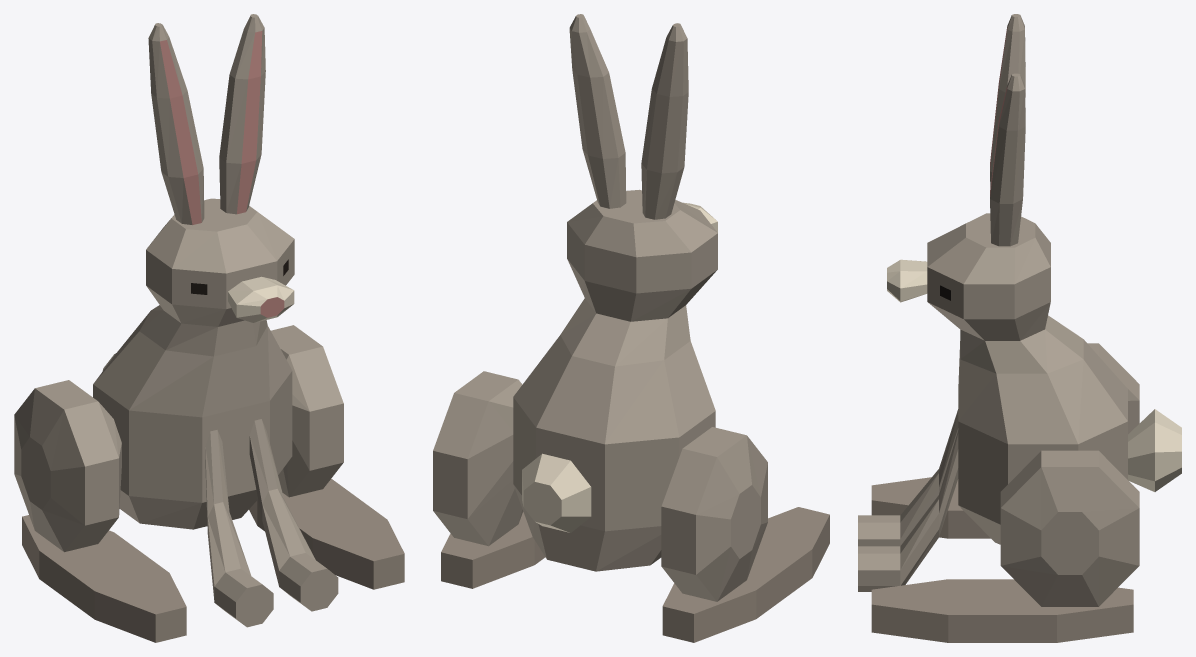
The picture shows the model from 3 angles, left to right: view 1: azimuth 30°, elevation 25°; view 2: azimuth 150°, elevation 25°; view 3: azimuth 270°, elevation 25°; orthographic projection. The views are drawn at different scales.
Parts seen in each view (by area): view 1: SeatedTaperedTorso, LeftBroadSeatedHaunch, CheekedHead_IntegralEyes, LeftLongForwardHindPaw, RightLongForwardHindPaw, RightBroadSeatedHaunch, LeftLongThickSplayedEar, RightLongThickSplayedEar, RightContinuousForelegAndPaw, LeftContinuousForelegAndPaw, ShortMuzzle_IntegralNose; view 2: SeatedTaperedTorso, LeftBroadSeatedHaunch, CheekedHead_IntegralEyes, RightBroadSeatedHaunch, LeftLongForwardHindPaw, LeftLongThickSplayedEar, RightLongThickSplayedEar, ShortFacetedTail, RightLongForwardHindPaw; view 3: SeatedTaperedTorso, RightBroadSeatedHaunch, RightLongForwardHindPaw, CheekedHead_IntegralEyes, RightLongThickSplayedEar, RightContinuousForelegAndPaw, ShortFacetedTail, LeftContinuousForelegAndPaw, LeftLongForwardHindPaw, LeftLongThickSplayedEar, ShortMuzzle_IntegralNose, LeftBroadSeatedHaunch.
Part boxes in pixels (x1,y1,x2,y2): SeatedTaperedTorso: [93, 305, 292, 529]; LeftBroadSeatedHaunch: [14, 380, 121, 552]; CheekedHead_IntegralEyes: [146, 198, 294, 326]; LeftLongForwardHindPaw: [22, 515, 186, 642]; RightLongForwardHindPaw: [249, 479, 404, 589]; RightBroadSeatedHaunch: [271, 325, 343, 497]; LeftLongThickSplayedEar: [148, 23, 204, 224]; RightLongThickSplayedEar: [219, 14, 265, 214]; RightContinuousForelegAndPaw: [249, 419, 338, 611]; LeftContinuousForelegAndPaw: [205, 430, 273, 627]; ShortMuzzle_IntegralNose: [228, 276, 294, 322]; SeatedTaperedTorso: [513, 298, 715, 571]; LeftBroadSeatedHaunch: [661, 427, 767, 601]; CheekedHead_IntegralEyes: [567, 189, 717, 321]; RightBroadSeatedHaunch: [433, 371, 523, 546]; LeftLongForwardHindPaw: [662, 507, 829, 642]; LeftLongThickSplayedEar: [641, 23, 688, 219]; RightLongThickSplayedEar: [569, 14, 626, 208]; ShortFacetedTail: [522, 453, 591, 532]; RightLongForwardHindPaw: [441, 512, 545, 588]; SeatedTaperedTorso: [958, 315, 1127, 544]; RightBroadSeatedHaunch: [1000, 450, 1139, 606]; RightLongForwardHindPaw: [871, 579, 1133, 642]; CheekedHead_IntegralEyes: [927, 213, 1050, 340]; RightLongThickSplayedEar: [990, 73, 1025, 246]; RightContinuousForelegAndPaw: [858, 430, 958, 591]; ShortFacetedTail: [1128, 409, 1181, 491]; LeftContinuousForelegAndPaw: [858, 409, 958, 546]; LeftLongForwardHindPaw: [871, 477, 990, 538]; LeftLongThickSplayedEar: [990, 14, 1025, 186]; ShortMuzzle_IntegralNose: [887, 259, 927, 302]; LeftBroadSeatedHaunch: [1087, 343, 1139, 434].
Bounding box in the file's own units: 0.86 × 1.53 × 0.84.
